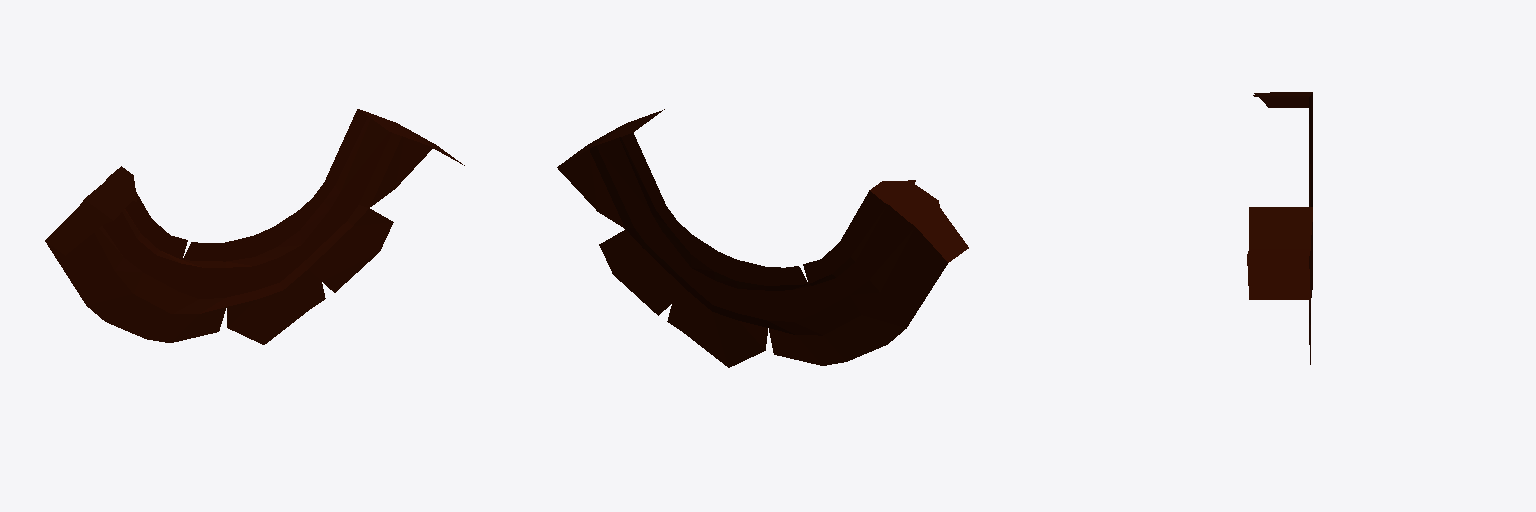
The model's file is Flag_RoundArch.obj.
3 renders of one model, left to right at view 1: azimuth 30°, elevation 25°; view 2: azimuth 150°, elevation 25°; view 3: azimuth 270°, elevation 25°, orthographic.
Visible parts, largest first — view 1: Flag_RoundArch; view 2: Flag_RoundArch; view 3: Flag_RoundArch.
Boxes of the visible parts, <box> form: Flag_RoundArch: <box>45,109,464,344</box>; Flag_RoundArch: <box>557,109,968,367</box>; Flag_RoundArch: <box>1247,92,1312,364</box>.
Bounding box in the file's own units: 2.17 × 1.13 × 0.316.